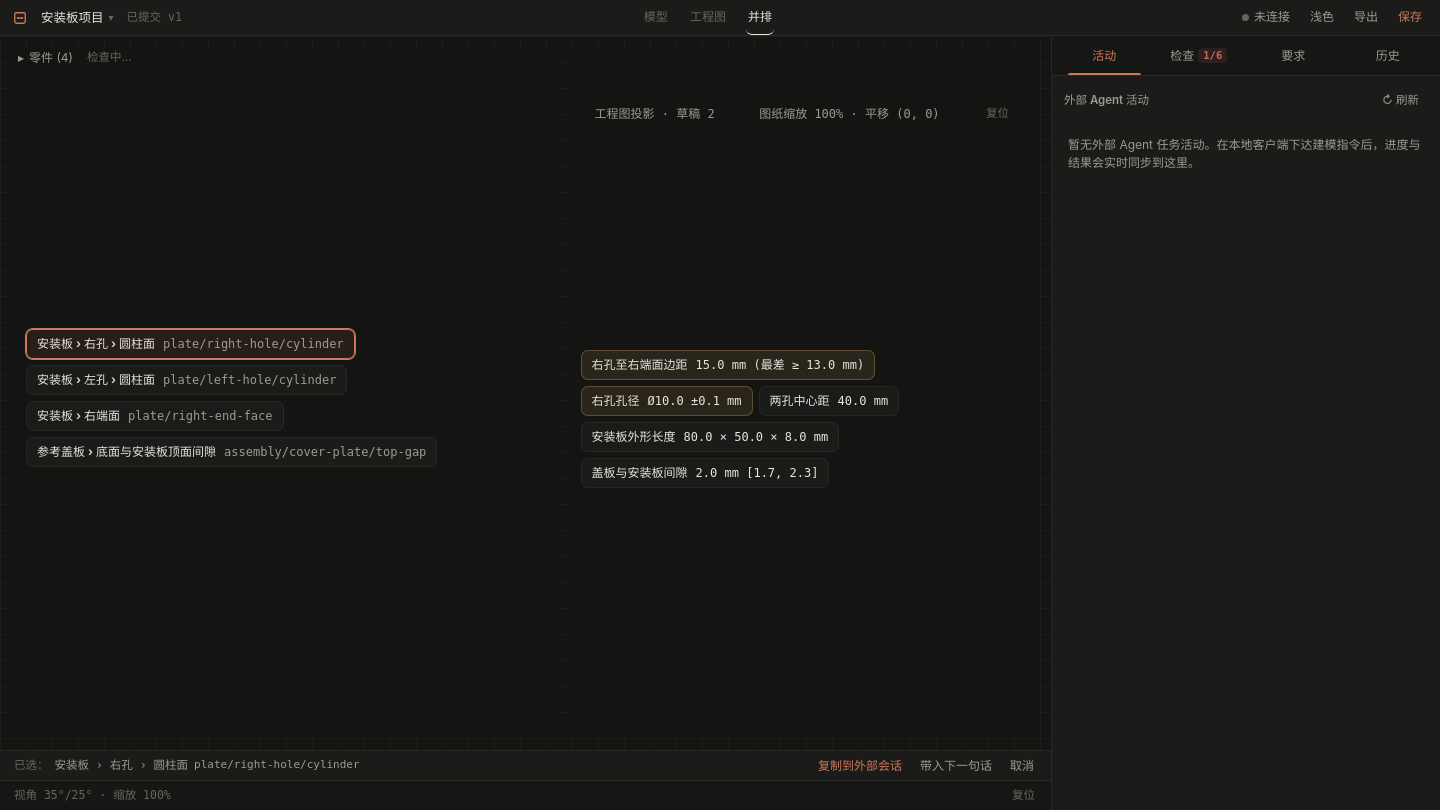
Test: ProjectAgentM1Workbench (M2-FE-01 双视图联动、对象上下文与检查定位) › 侧栏支持四标签切换，检查面板展示 6 种状态（文字+图形）、调用 locateM2Evidence 定位原文与特征并支持待澄清回答
Expected: the tab "活动" is shown, [1058,36,1150,75]
Expected: the tab "要求" is shown, [1247,36,1340,75]
// 切到“检查”面板时，中央零件/图纸依然可见
Click the tab "检查 1/6": (1199, 56) [1152,36,1245,75]
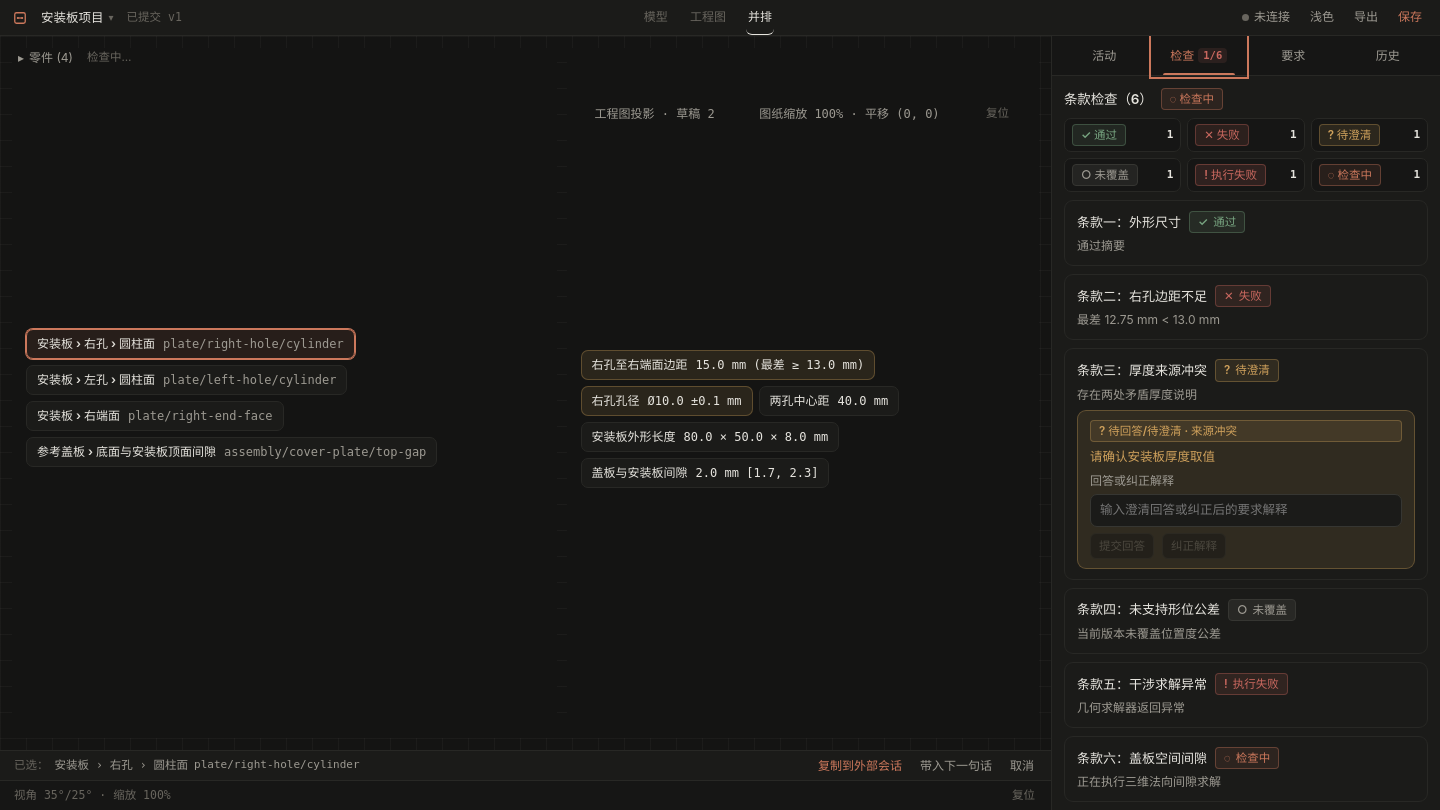
Now the element named "检查状态：通过" reads "✓ 通过", box [1189,211,1245,233]
Now the element named "检查状态：失败" reads "✕ 失败", box [1215,285,1271,308]
Now the element named "检查状态：待澄清" reads "? 待澄清", box [1215,360,1279,382]
Click the button "条款二：右孔边距不足 ✕ 失败 最差 12.75 mm < 13.0 mm": (1246, 307) [1077,285,1415,330]
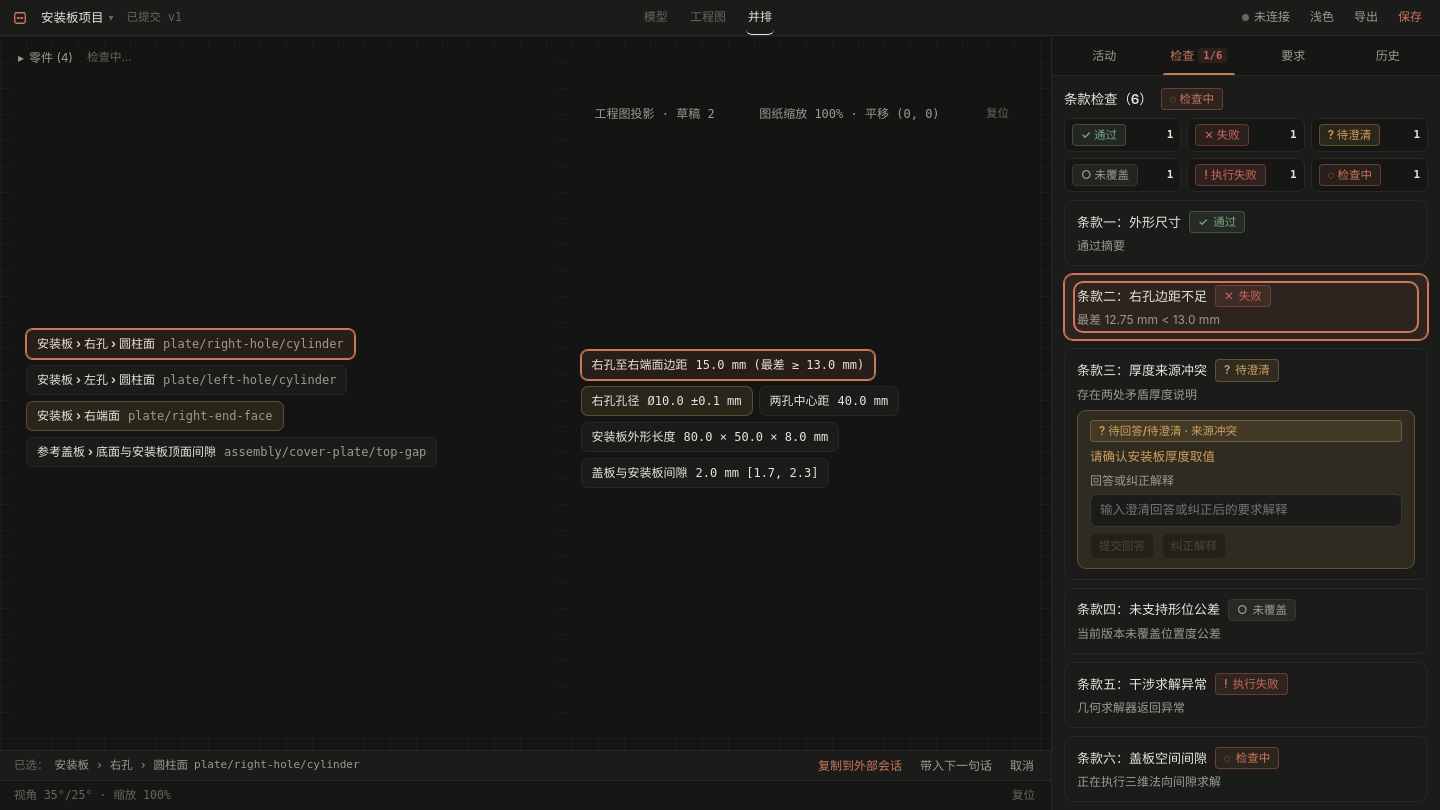
// 待澄清项支持逐条回答/纠正解释
In the field named "澄清输入 条款三：厚度来源冲突": (1246, 511) [1090,494,1402,527], type "厚度以第 1 页 8 mm 为准"
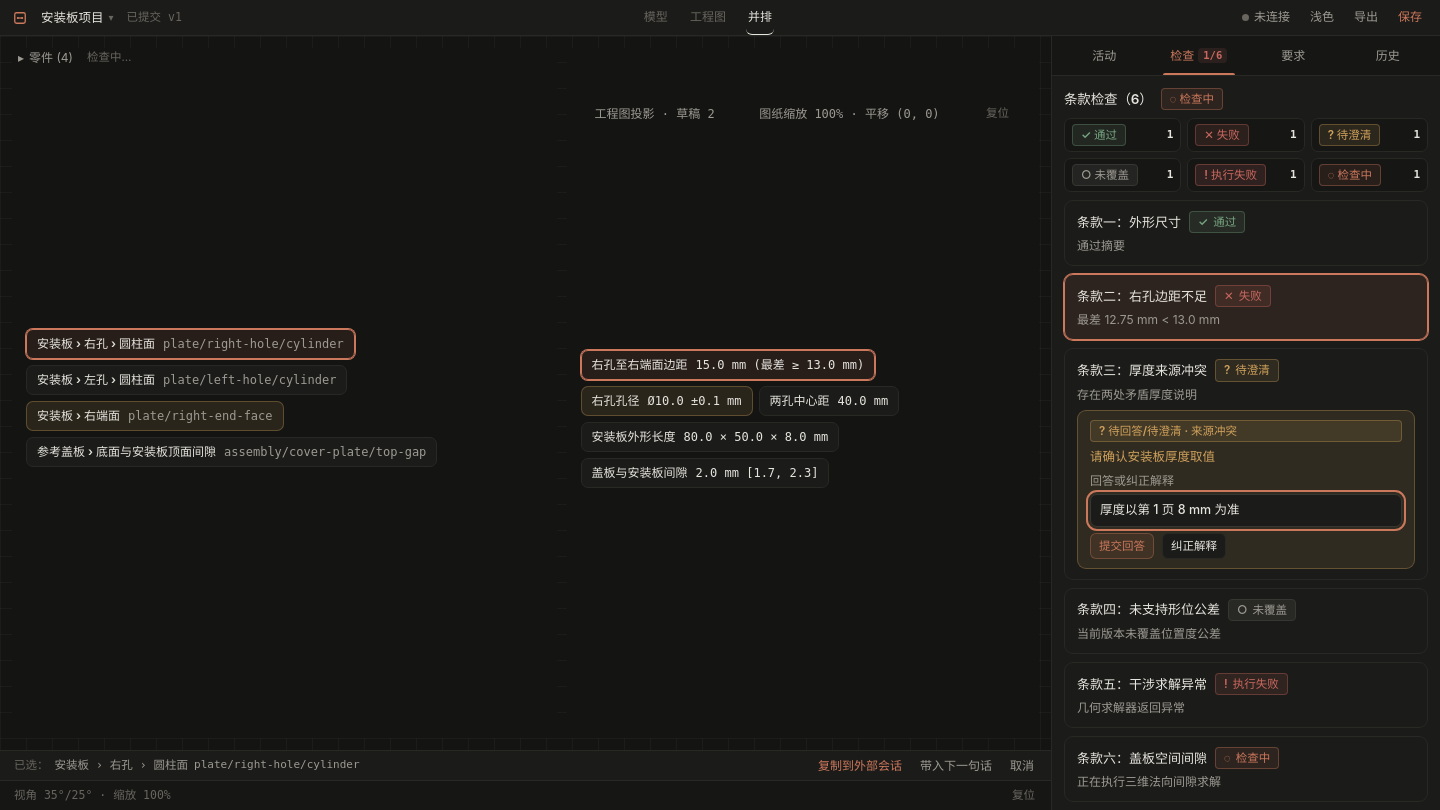
Click the button "提交回答": (1122, 546) [1090,533,1154,559]
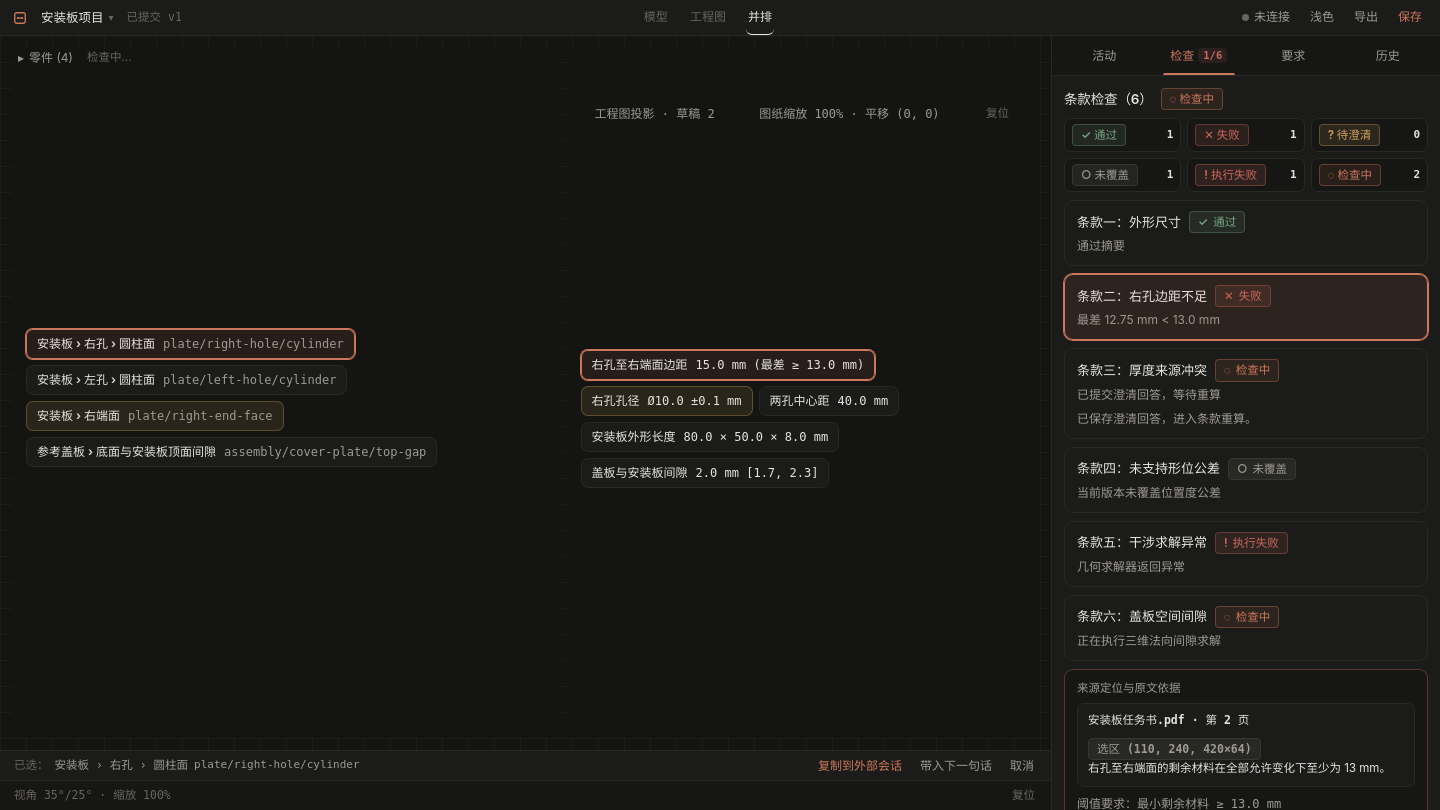
Now the text "已保存澄清回答，进入条款重算。" is shown, box [1077,411,1257,426]
// 切到“要求”与“历史”面板均正常展示
Click the tab "要求": (1293, 56) [1247,36,1340,75]
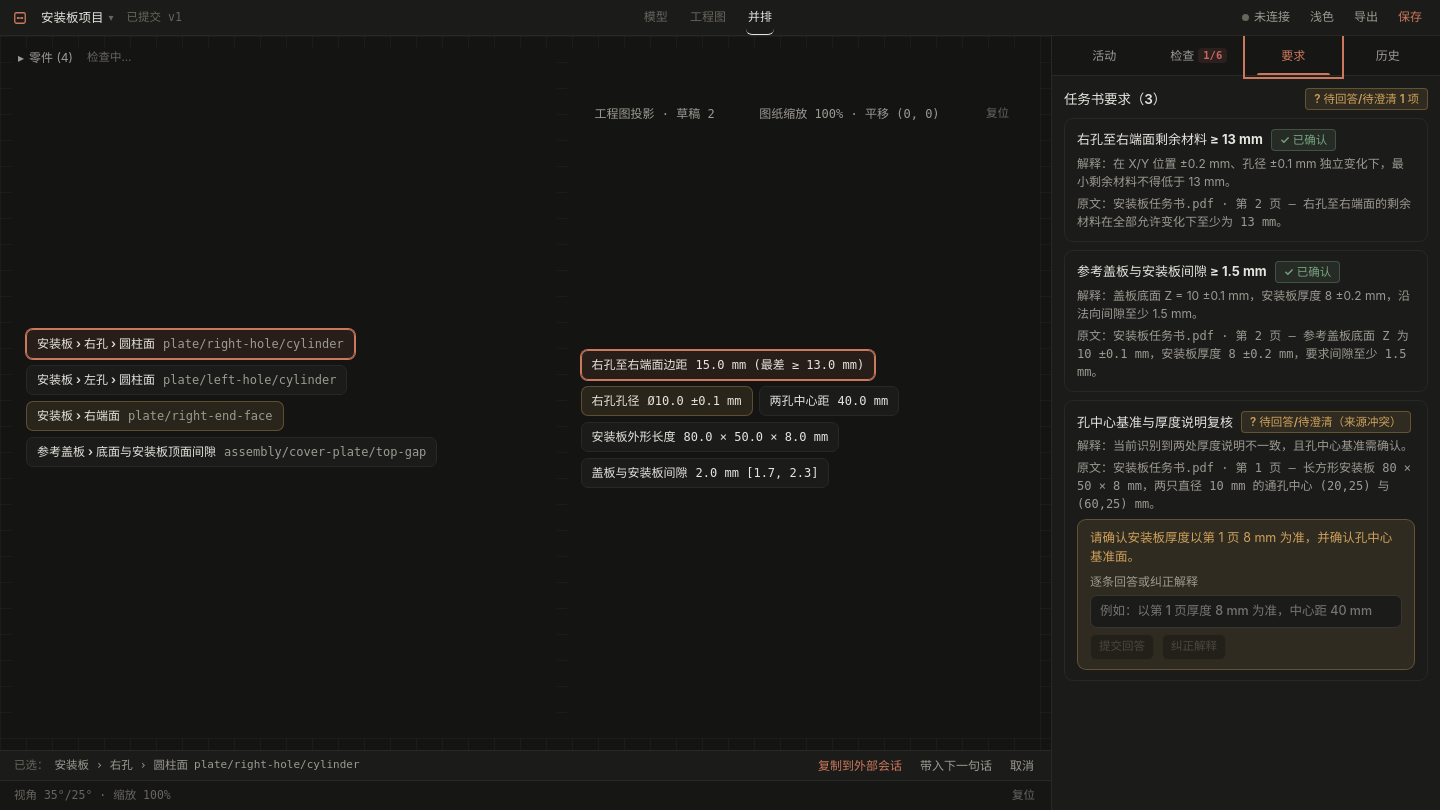
Now the element named "要求列表面板" is shown, box [1064,88,1428,681]
Click the tab "历史": (1388, 56) [1342,36,1434,75]
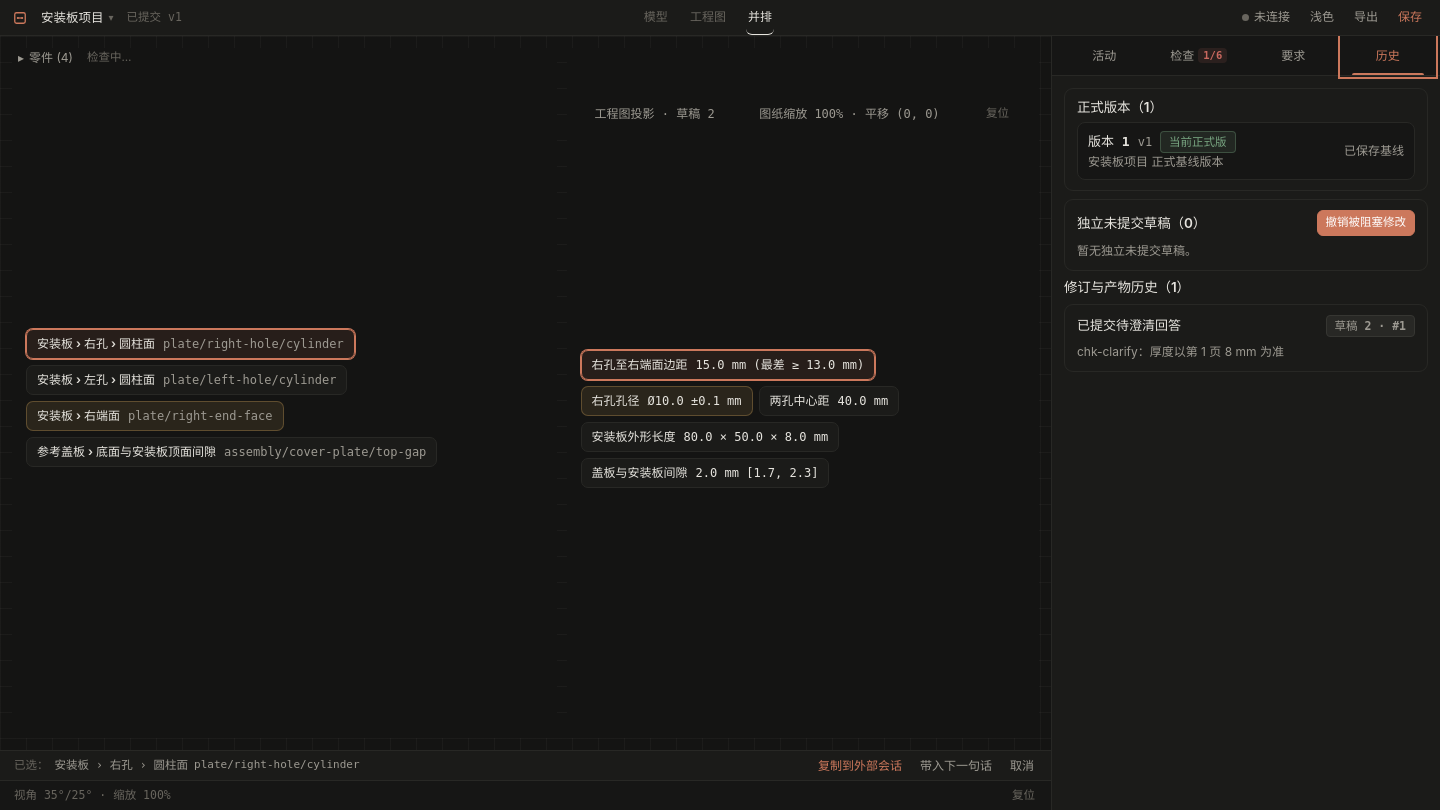
Now the element named "修订与事件历史面板" is shown, box [1064,88,1428,372]
